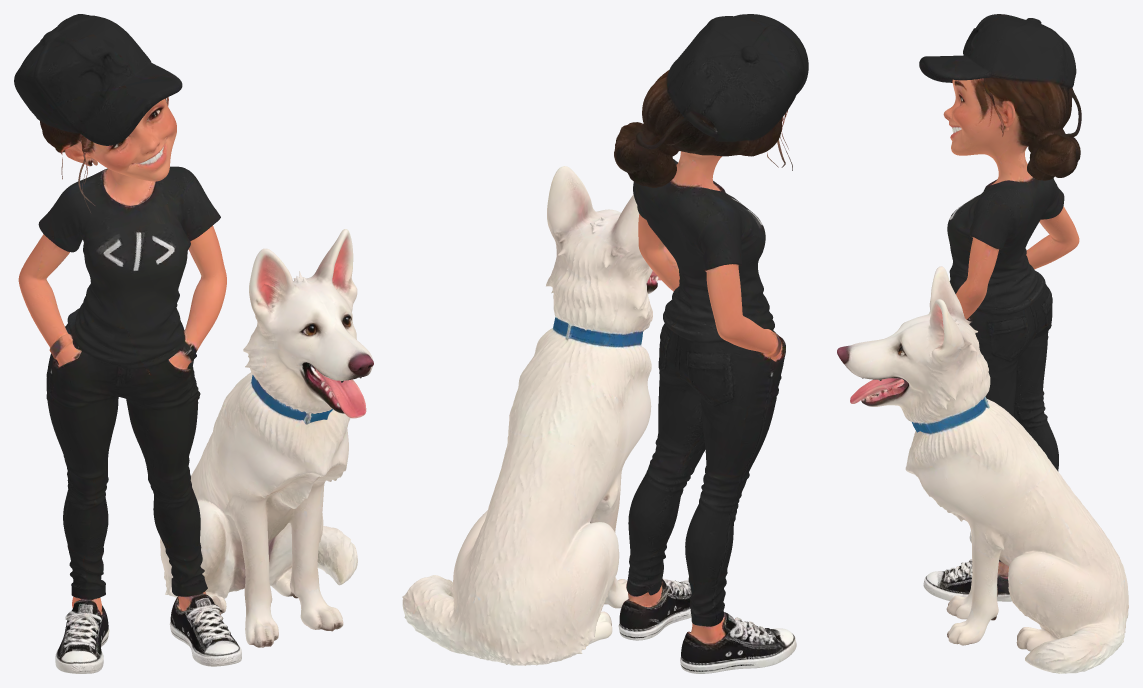
Rendered from compressed-Hero-Avatar.glb.
3 views of the same model, side by side, from view 1: azimuth 30°, elevation 25°; view 2: azimuth 150°, elevation 25°; view 3: azimuth 270°, elevation 25° (orthographic). The views are drawn at different scales.
Parts seen in each view (by area): view 1: mesh_node; view 2: mesh_node; view 3: mesh_node.
Part boxes in pixels (x1,y1,x2,y2): mesh_node: (14, 14, 373, 673); mesh_node: (402, 14, 808, 673); mesh_node: (837, 14, 1128, 673).
Size of the model in its own units: 0.0704 by 0.12 by 0.0594.
1 material, 1 textured.
